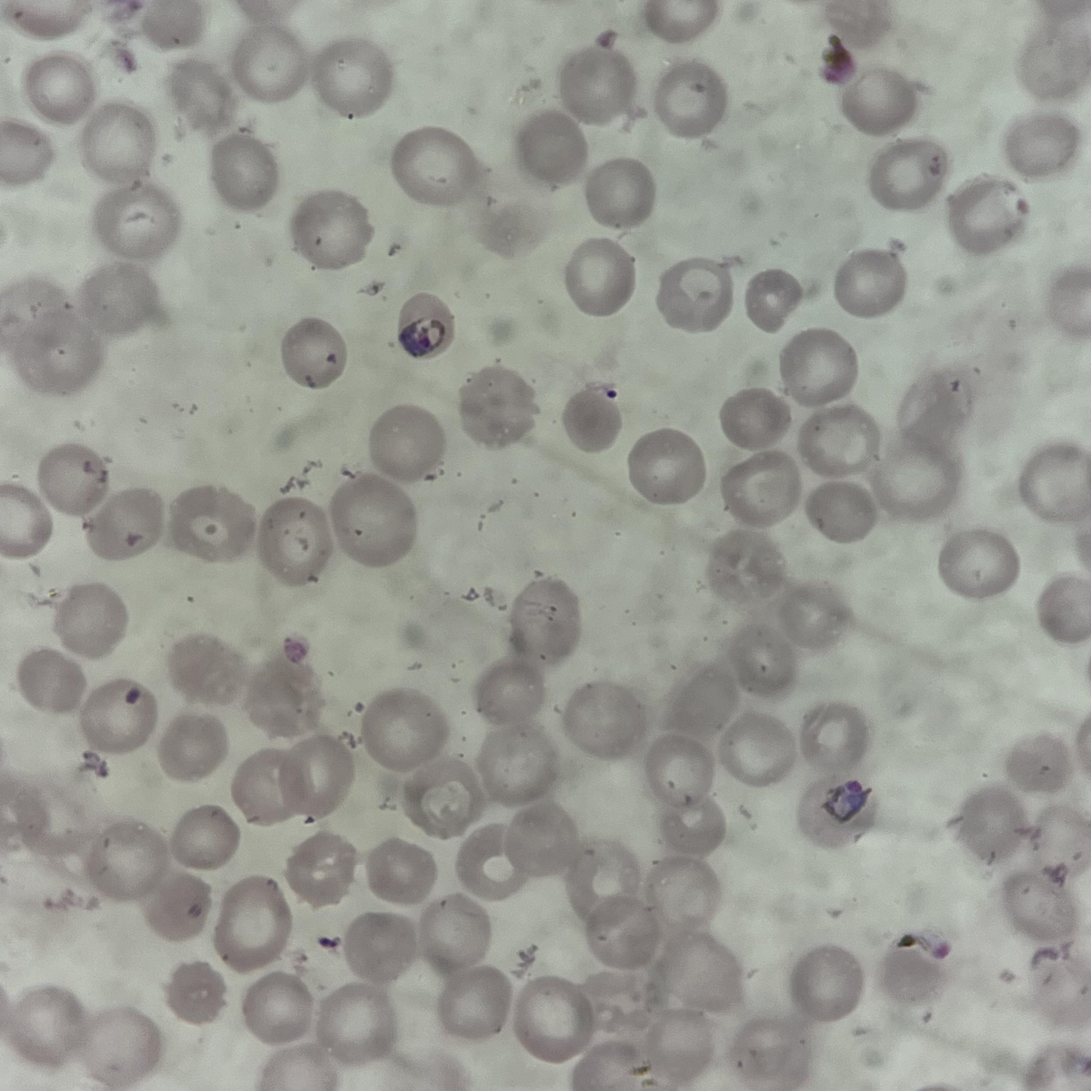Infected: (798, 776, 875, 850), (560, 384, 626, 451), (394, 291, 456, 359)
Uninfected: (2, 295, 102, 395), (329, 475, 420, 566), (244, 653, 330, 741), (213, 876, 293, 968), (167, 485, 258, 565), (896, 362, 980, 447), (397, 758, 483, 840), (391, 126, 481, 204), (277, 733, 358, 819), (256, 496, 336, 583), (653, 932, 740, 1012), (868, 443, 957, 521), (511, 975, 592, 1060), (364, 691, 451, 770), (86, 821, 170, 902), (93, 183, 180, 261), (78, 1006, 162, 1085), (458, 364, 538, 446), (945, 175, 1028, 254), (558, 45, 638, 126), (312, 37, 394, 116), (475, 724, 559, 801), (80, 259, 165, 335), (290, 193, 372, 271), (705, 527, 787, 605), (628, 426, 710, 503), (7, 985, 84, 1066), (935, 527, 1019, 601), (79, 679, 158, 757), (719, 450, 800, 526), (80, 101, 158, 179), (316, 984, 395, 1061), (653, 256, 733, 332), (84, 488, 166, 562), (368, 404, 446, 481), (500, 801, 580, 876), (797, 406, 879, 479), (507, 578, 580, 660), (165, 632, 247, 705), (662, 666, 739, 743), (562, 238, 638, 316), (284, 831, 362, 907), (778, 327, 858, 401), (1017, 19, 1089, 101), (230, 26, 308, 101), (640, 1010, 718, 1085), (562, 681, 641, 755), (340, 910, 420, 983), (1018, 442, 1091, 522), (437, 968, 513, 1044), (566, 838, 643, 913), (955, 786, 1029, 864), (516, 110, 591, 186), (867, 138, 947, 209), (52, 582, 127, 657), (416, 894, 491, 969), (653, 61, 728, 136), (454, 824, 530, 898), (582, 895, 660, 967), (1, 771, 65, 858), (775, 579, 852, 651), (37, 444, 110, 519), (240, 972, 315, 1045), (1002, 866, 1076, 939), (717, 711, 792, 783), (142, 869, 217, 941), (642, 854, 719, 924), (789, 947, 862, 1020), (642, 732, 714, 806), (363, 837, 438, 908), (731, 1017, 807, 1087), (230, 751, 302, 824), (210, 133, 281, 207), (840, 68, 917, 135), (278, 316, 349, 388), (23, 53, 95, 124), (157, 713, 230, 783), (724, 623, 795, 694), (584, 159, 655, 229), (799, 702, 870, 771), (834, 249, 906, 317), (718, 386, 792, 452), (17, 647, 86, 717), (473, 661, 546, 727), (1003, 114, 1077, 179), (167, 60, 235, 130), (170, 806, 241, 873), (1028, 804, 1091, 877), (656, 796, 728, 859), (880, 939, 948, 1005), (805, 479, 876, 542), (1004, 732, 1073, 796), (577, 968, 649, 1029), (478, 200, 547, 263), (569, 1039, 649, 1091), (166, 961, 229, 1026), (1036, 575, 1091, 645), (744, 269, 804, 331), (259, 1046, 333, 1091), (391, 1050, 470, 1091), (1045, 263, 1091, 332), (644, 1, 717, 43)
